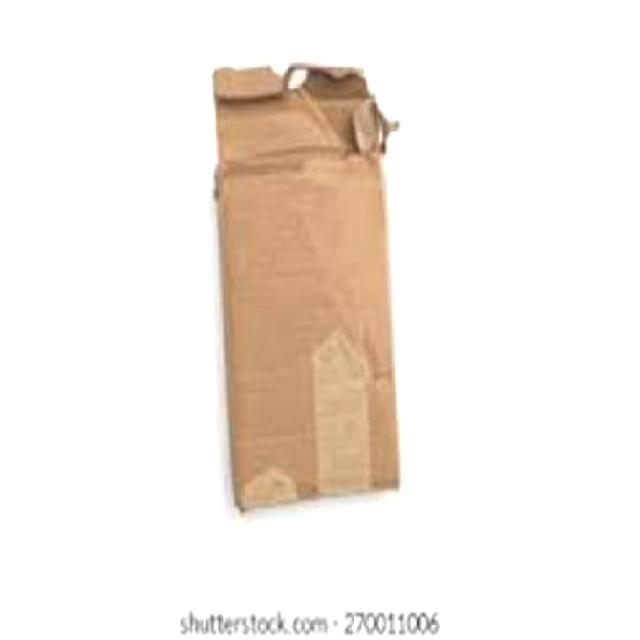box: (212, 62, 406, 513)
tear: (269, 62, 404, 168)
